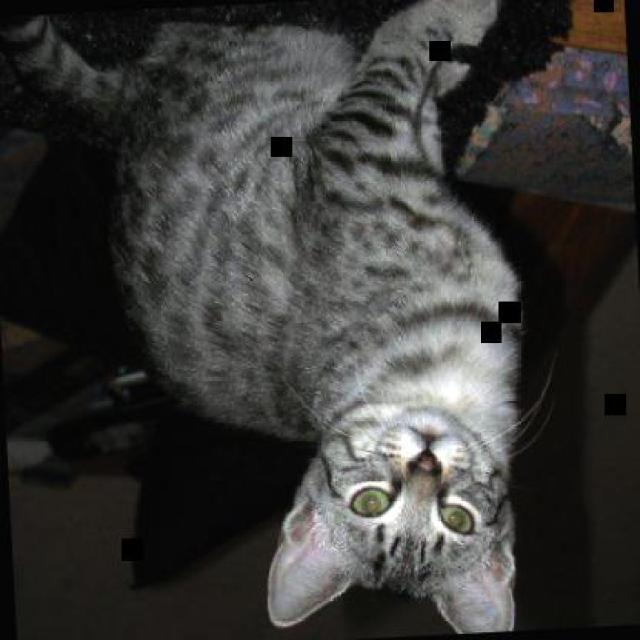cat: (0, 0, 537, 638)
